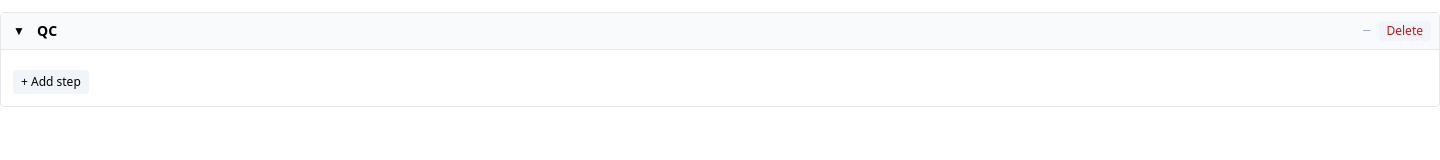
Test: Card › click title enters edit mode
This screenshot has width=1440, height=160.
Click the heading with test id "card-title": (47, 30) [37,21,57,40]
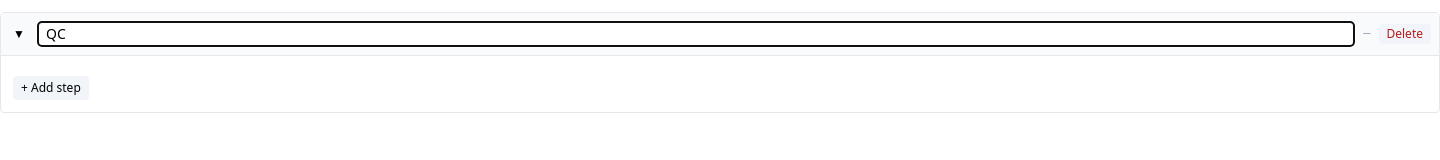
Expected: the field with test id "card-title-edit" is shown, [37,21,1355,47]
